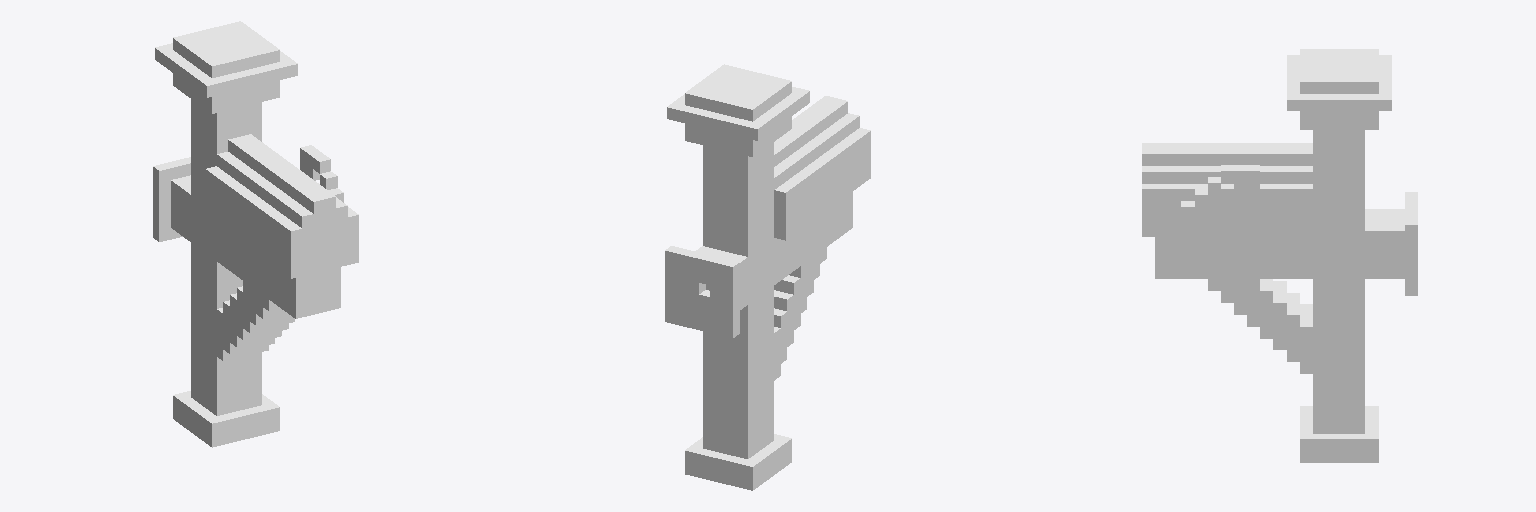
The model's file is others2-4.obj.
3 renders of one model, left to right at view 1: azimuth 30°, elevation 25°; view 2: azimuth 150°, elevation 25°; view 3: azimuth 270°, elevation 25°, orthographic.
Visible parts, largest first — view 1: object 1; view 2: object 1; view 3: object 1.
Boxes of the visible parts, x1,y1,x2,y2 form: object 1: [153, 21, 358, 447]; object 1: [665, 64, 870, 490]; object 1: [1142, 49, 1417, 462].
Bounding box in the file's own units: 0.8 × 3.2 × 2.1.